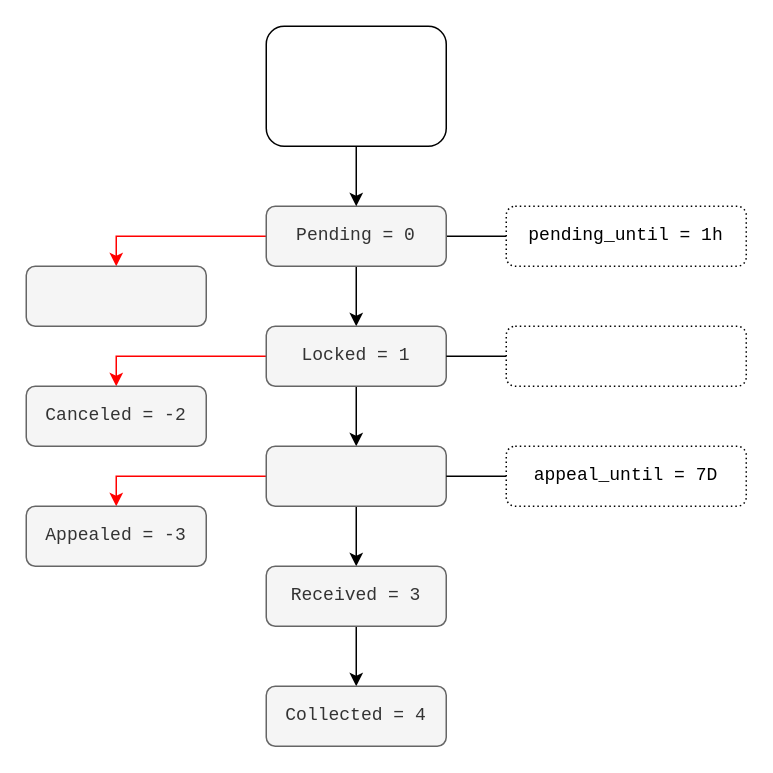
Image size: 773x773. Some labels were removed from this diagram. Here are the shapes that lost their labels. From the top down, the centre of each, then its label:
point (355, 85): Midnight contract
point (115, 295): Returned = -1
point (625, 355): locked_until = 24h
point (355, 475): Dispatched = 2
